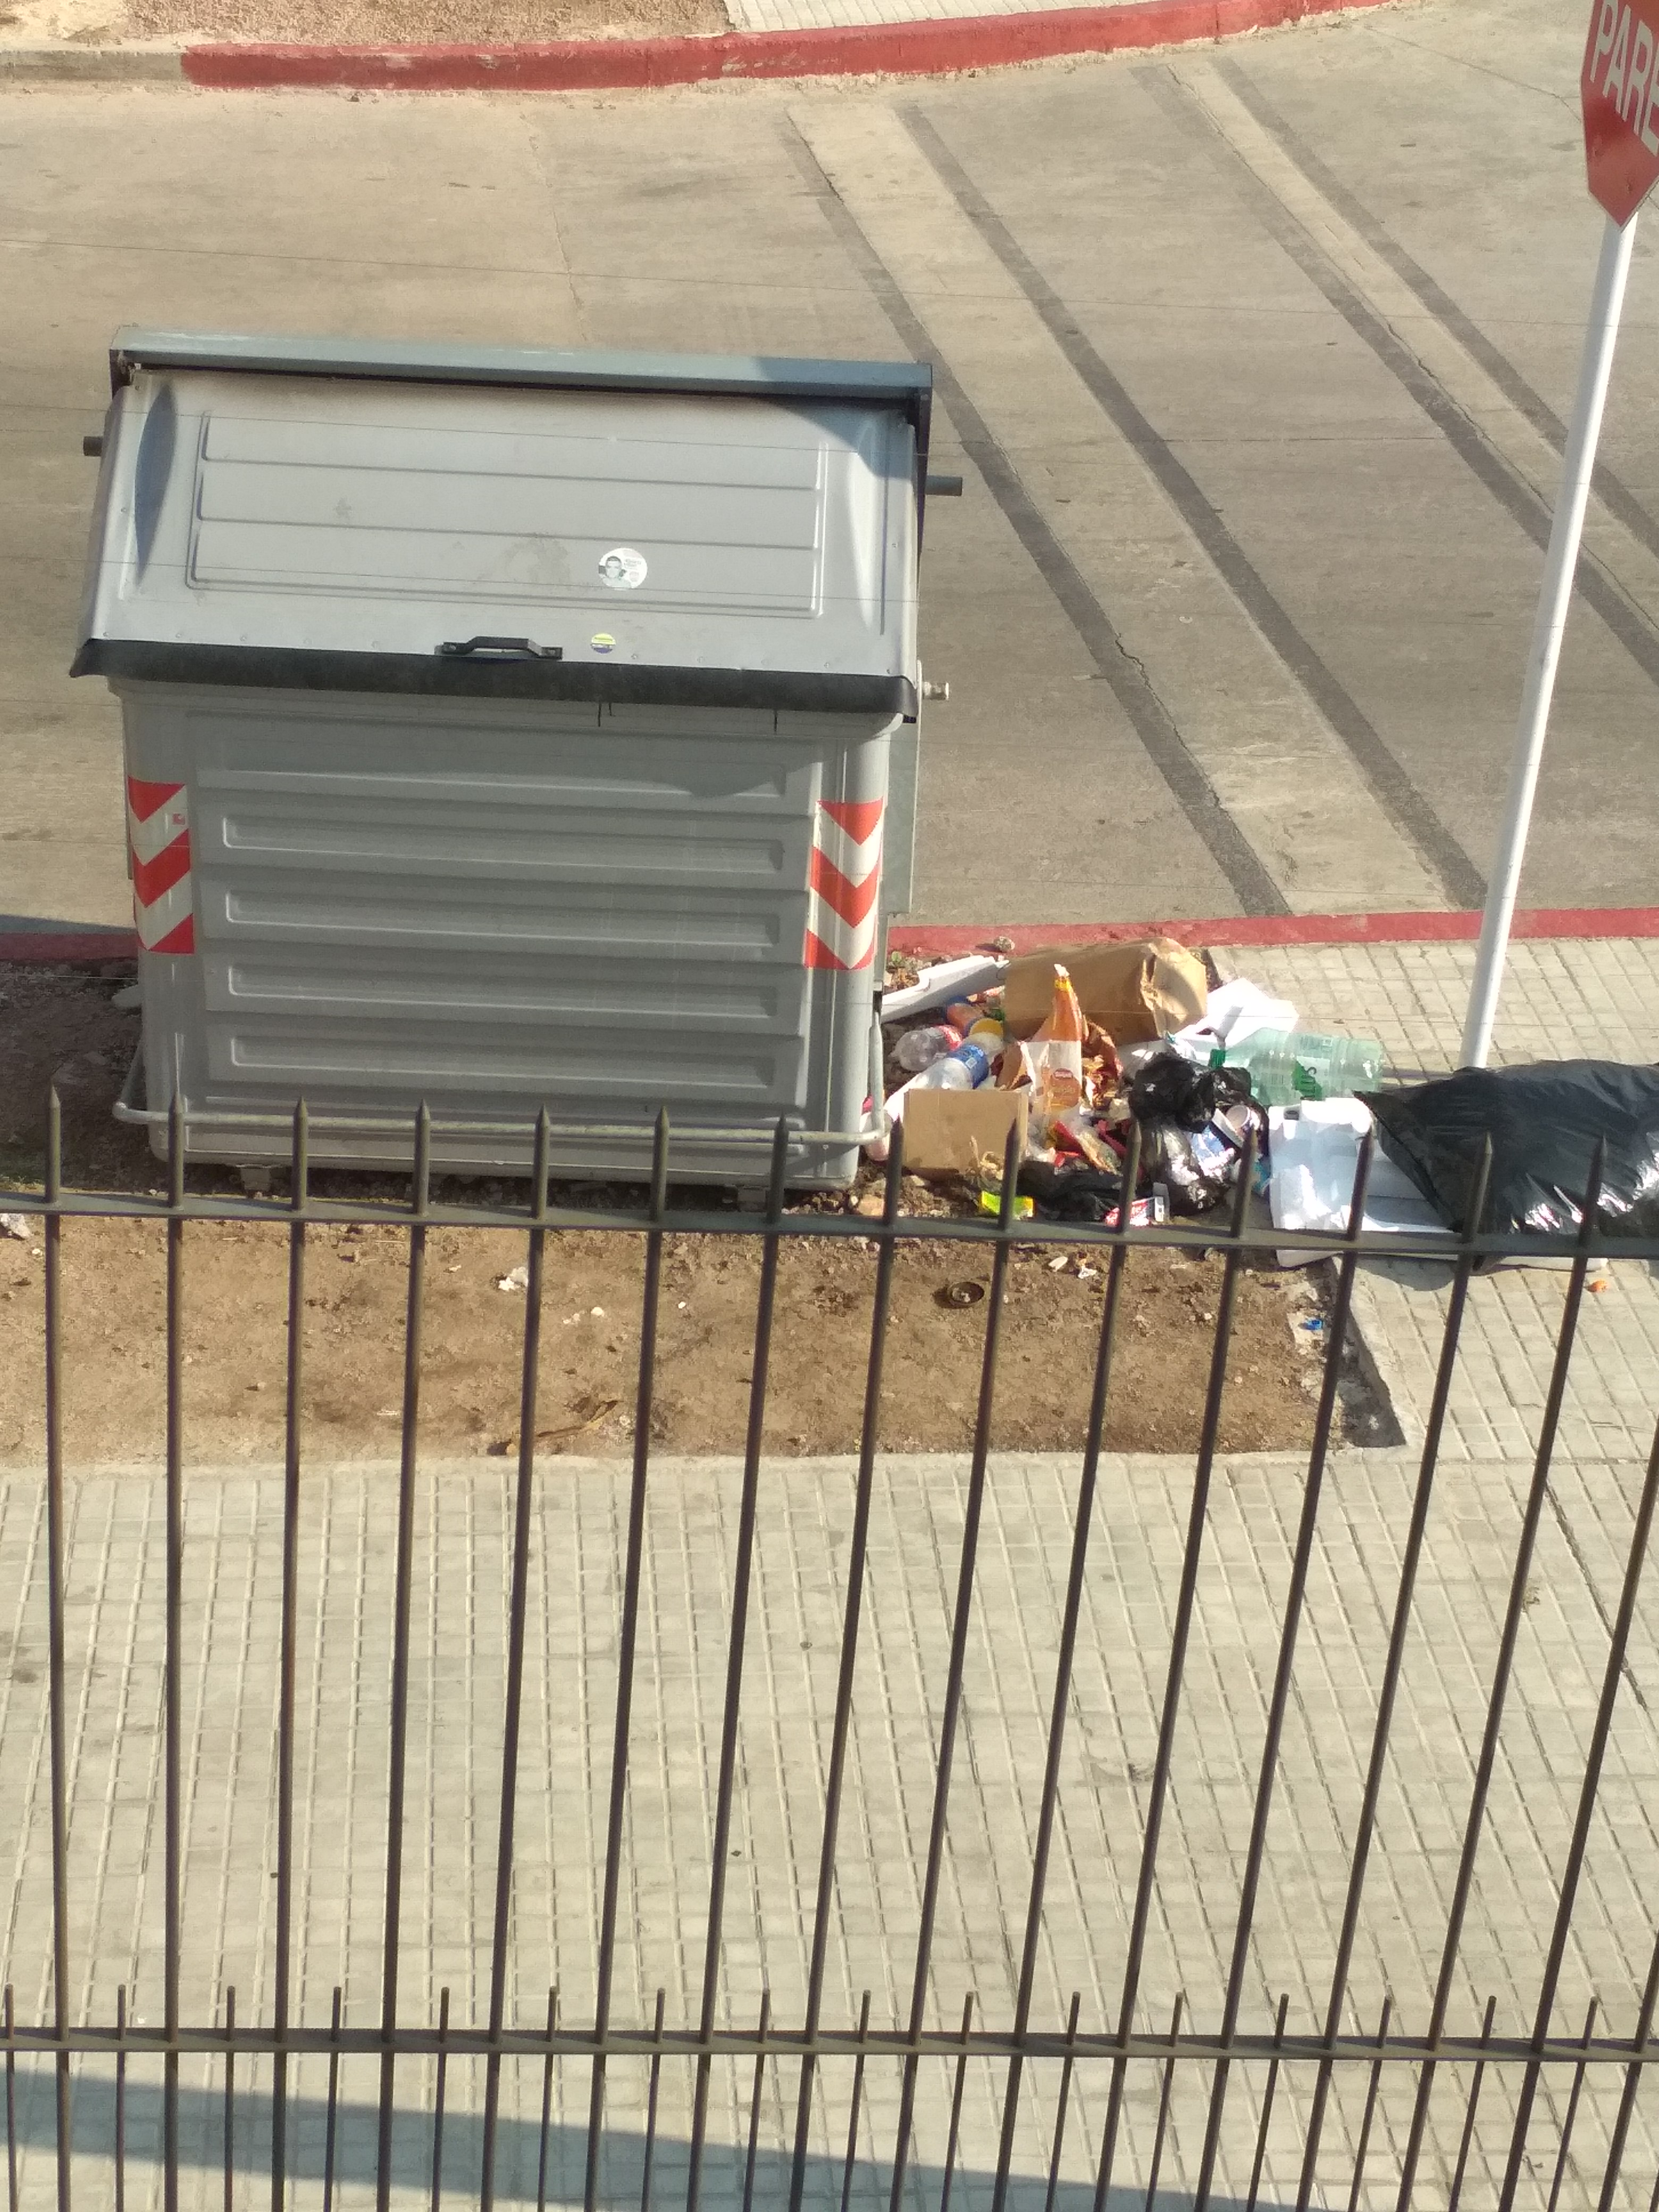container: (89, 336, 906, 1207)
